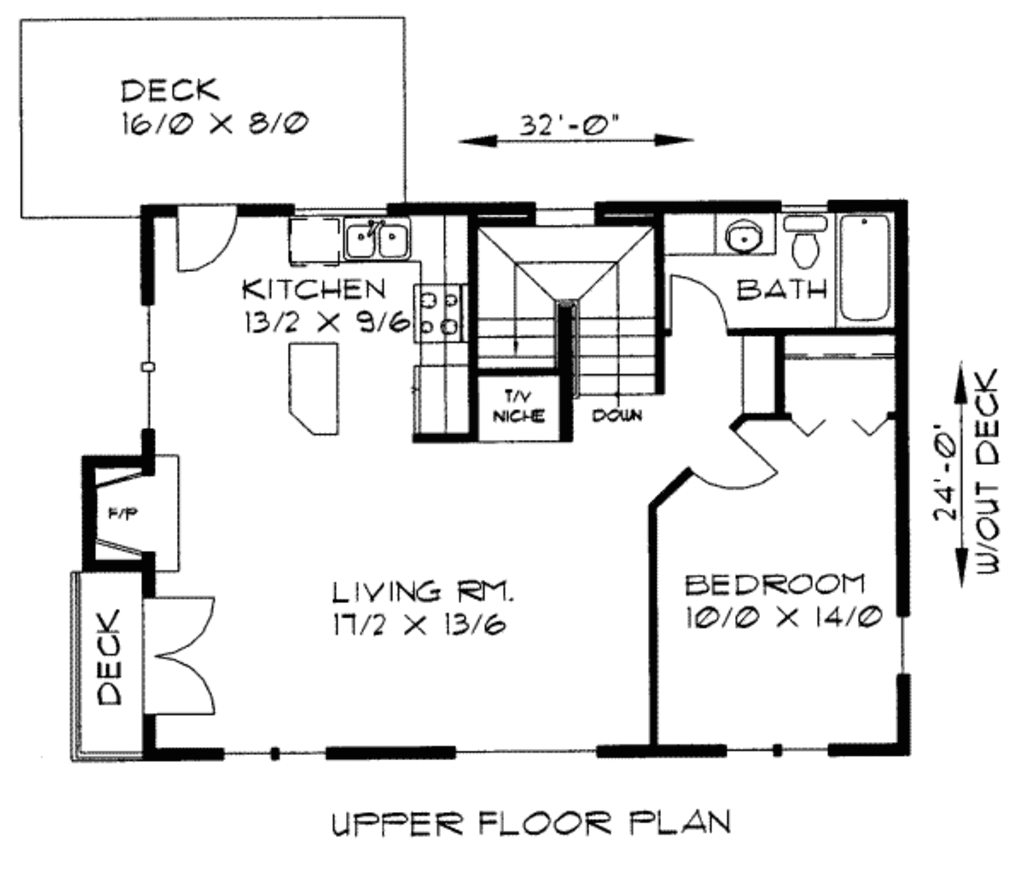door: (671, 428, 807, 511), (144, 591, 224, 716), (156, 192, 241, 288), (660, 266, 731, 338)
large_sink: (775, 202, 840, 272)
small_sink: (704, 204, 780, 255)
stairs: (475, 222, 661, 434)
tub: (841, 210, 899, 342)
twin_sink: (332, 202, 419, 268)
window: (457, 739, 600, 763), (727, 734, 833, 763), (136, 307, 156, 435), (524, 190, 597, 220), (884, 603, 913, 675), (223, 744, 316, 763)
